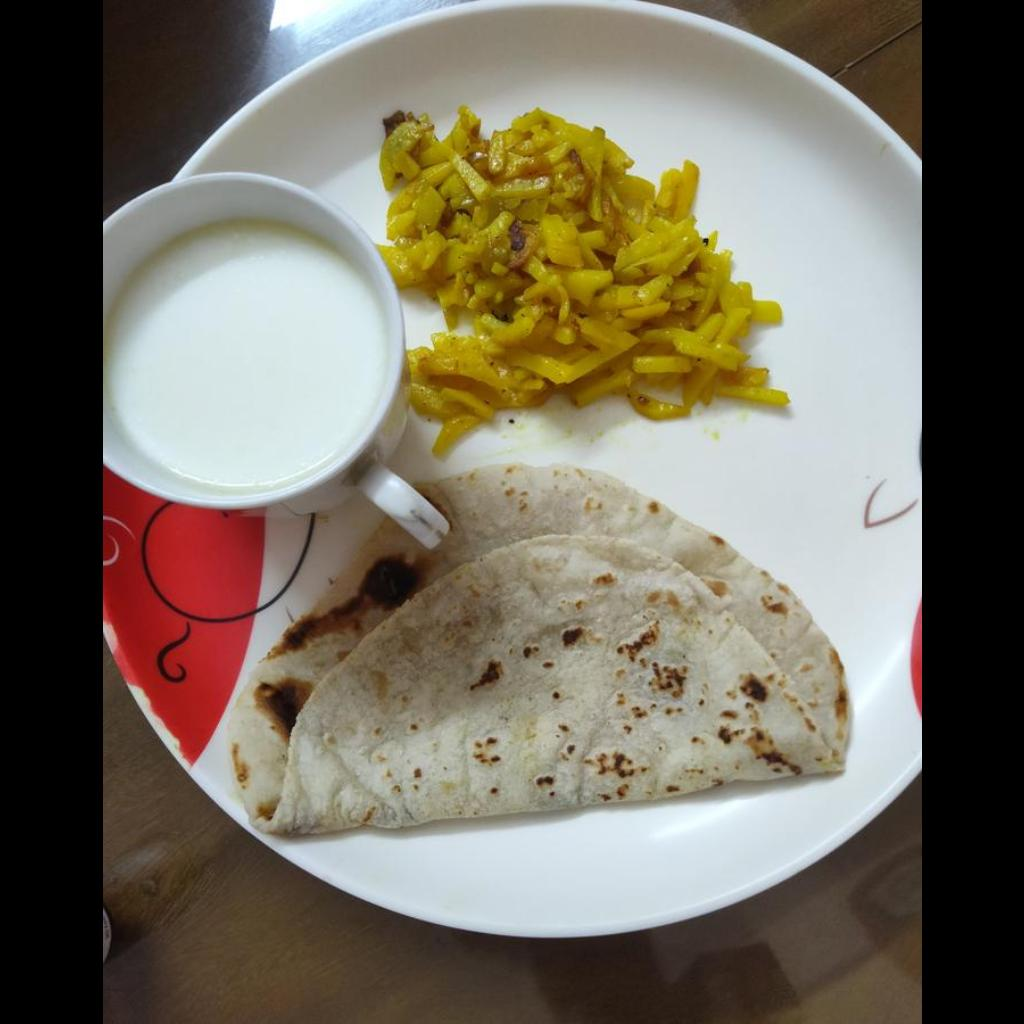milk: (102, 218, 379, 486)
ruti: (210, 460, 850, 830)
vaji: (372, 114, 793, 447)
